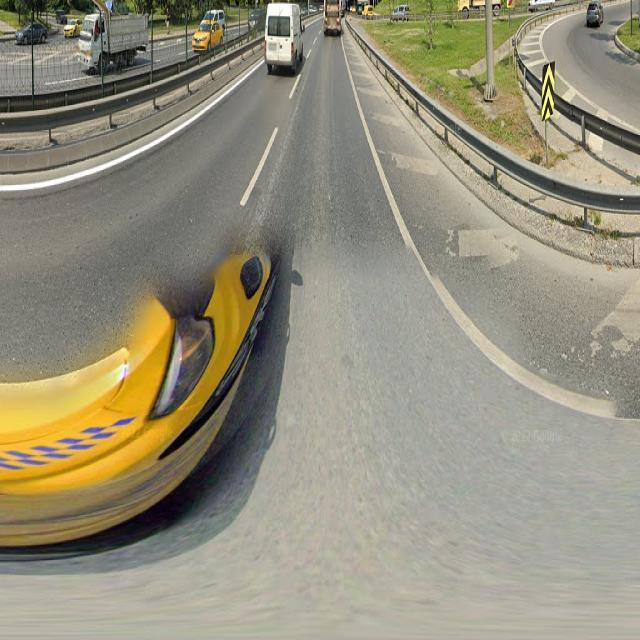Guard rail: (37, 82, 236, 196)
Pedestrian crosswalk: (365, 130, 595, 415)
Road: (266, 54, 494, 626), (12, 74, 279, 362)
